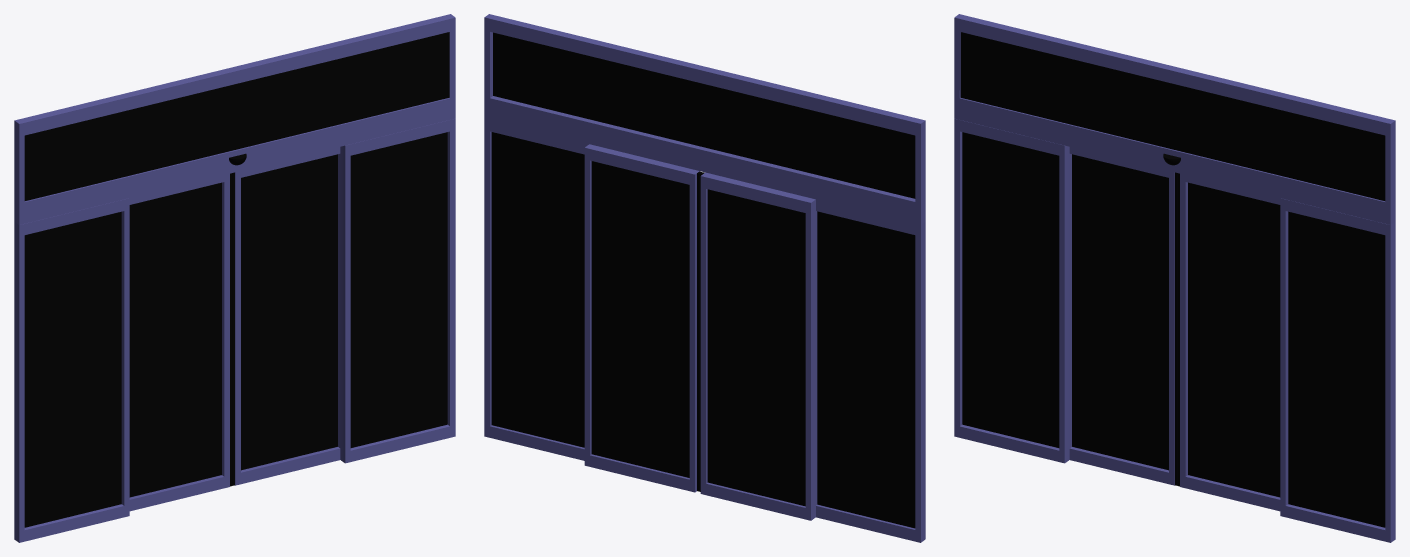
Rendered from Automatic_door.fbx.
3 renders of one model, left to right at view 1: azimuth 30°, elevation 25°; view 2: azimuth 150°, elevation 25°; view 3: azimuth 330°, elevation 25°, orthographic.
Parts seen in each view (by area): view 1: Automatic_door_left_static_window, Automatic_door_right_static_window, AUTOMATIC_SLIDING_DOOR_OBJ:Rectangle03, Automatic_door_upper_window, AUTOMATIC_SLIDING_DOOR_OBJ:Rectangle09, Automatic_door_upper_window_Pane, Automatic_door_left_static_window_pane, Automatic_door_right_static_window_pane, AUTOMATIC_SLIDING_DOOR_OBJ:Rectangle04, AUTOMATIC_SLIDING_DOOR_OBJ:Rectangle08, AUTOMATIC_SLIDING_DOOR_OBJ:FITIL, AUTOMATIC_SLIDING_DOOR_OBJ:Object01; view 2: AUTOMATIC_SLIDING_DOOR_OBJ:Rectangle09, AUTOMATIC_SLIDING_DOOR_OBJ:Rectangle03, Automatic_door_left_static_window, Automatic_door_right_static_window, Automatic_door_upper_window, Automatic_door_upper_window_Pane, AUTOMATIC_SLIDING_DOOR_OBJ:Rectangle08, AUTOMATIC_SLIDING_DOOR_OBJ:Rectangle04, Automatic_door_left_static_window_pane, Automatic_door_right_static_window_pane, AUTOMATIC_SLIDING_DOOR_OBJ:FITIL; view 3: Automatic_door_right_static_window, Automatic_door_left_static_window, AUTOMATIC_SLIDING_DOOR_OBJ:Rectangle09, Automatic_door_upper_window, AUTOMATIC_SLIDING_DOOR_OBJ:Rectangle03, Automatic_door_upper_window_Pane, Automatic_door_right_static_window_pane, Automatic_door_left_static_window_pane, AUTOMATIC_SLIDING_DOOR_OBJ:Rectangle08, AUTOMATIC_SLIDING_DOOR_OBJ:Rectangle04, AUTOMATIC_SLIDING_DOOR_OBJ:Object01, AUTOMATIC_SLIDING_DOOR_OBJ:FITIL.
Boxes of the visible parts, x1=… form: Automatic_door_left_static_window: x1=24, y1=211, x2=121, y2=527; Automatic_door_right_static_window: x1=350, y1=132, x2=447, y2=447; AUTOMATIC_SLIDING_DOOR_OBJ:Rectangle03: x1=241, y1=154, x2=337, y2=470; Automatic_door_upper_window: x1=24, y1=32, x2=449, y2=200; AUTOMATIC_SLIDING_DOOR_OBJ:Rectangle09: x1=129, y1=182, x2=221, y2=497; Automatic_door_upper_window_Pane: x1=14, y1=14, x2=455, y2=224; Automatic_door_left_static_window_pane: x1=14, y1=198, x2=129, y2=542; Automatic_door_right_static_window_pane: x1=340, y1=118, x2=455, y2=463; AUTOMATIC_SLIDING_DOOR_OBJ:Rectangle04: x1=235, y1=147, x2=340, y2=485; AUTOMATIC_SLIDING_DOOR_OBJ:Rectangle08: x1=129, y1=173, x2=229, y2=511; AUTOMATIC_SLIDING_DOOR_OBJ:FITIL: x1=232, y1=172, x2=234, y2=485; AUTOMATIC_SLIDING_DOOR_OBJ:Object01: x1=230, y1=173, x2=231, y2=486; AUTOMATIC_SLIDING_DOOR_OBJ:Rectangle09: x1=707, y1=189, x2=805, y2=506; AUTOMATIC_SLIDING_DOOR_OBJ:Rectangle03: x1=591, y1=161, x2=689, y2=477; Automatic_door_left_static_window: x1=817, y1=211, x2=915, y2=528; Automatic_door_right_static_window: x1=491, y1=132, x2=584, y2=447; Automatic_door_upper_window: x1=493, y1=32, x2=915, y2=198; Automatic_door_upper_window_Pane: x1=484, y1=14, x2=925, y2=224; AUTOMATIC_SLIDING_DOOR_OBJ:Rectangle08: x1=700, y1=172, x2=815, y2=520; AUTOMATIC_SLIDING_DOOR_OBJ:Rectangle04: x1=584, y1=144, x2=699, y2=492; Automatic_door_left_static_window_pane: x1=816, y1=199, x2=925, y2=542; Automatic_door_right_static_window_pane: x1=484, y1=118, x2=588, y2=460; AUTOMATIC_SLIDING_DOOR_OBJ:FITIL: x1=697, y1=171, x2=701, y2=491; Automatic_door_right_static_window: x1=1288, y1=211, x2=1385, y2=527; Automatic_door_left_static_window: x1=962, y1=132, x2=1059, y2=447; AUTOMATIC_SLIDING_DOOR_OBJ:Rectangle09: x1=1072, y1=154, x2=1168, y2=470; Automatic_door_upper_window: x1=960, y1=32, x2=1385, y2=200; AUTOMATIC_SLIDING_DOOR_OBJ:Rectangle03: x1=1188, y1=182, x2=1280, y2=497; Automatic_door_upper_window_Pane: x1=954, y1=14, x2=1395, y2=224; Automatic_door_right_static_window_pane: x1=1280, y1=198, x2=1395, y2=542; Automatic_door_left_static_window_pane: x1=954, y1=118, x2=1069, y2=463; AUTOMATIC_SLIDING_DOOR_OBJ:Rectangle08: x1=1069, y1=147, x2=1174, y2=485; AUTOMATIC_SLIDING_DOOR_OBJ:Rectangle04: x1=1180, y1=173, x2=1280, y2=511; AUTOMATIC_SLIDING_DOOR_OBJ:Object01: x1=1175, y1=172, x2=1177, y2=485; AUTOMATIC_SLIDING_DOOR_OBJ:FITIL: x1=1178, y1=173, x2=1179, y2=486.
Bounding box in the file's own units: 316 × 290 × 17.43.
